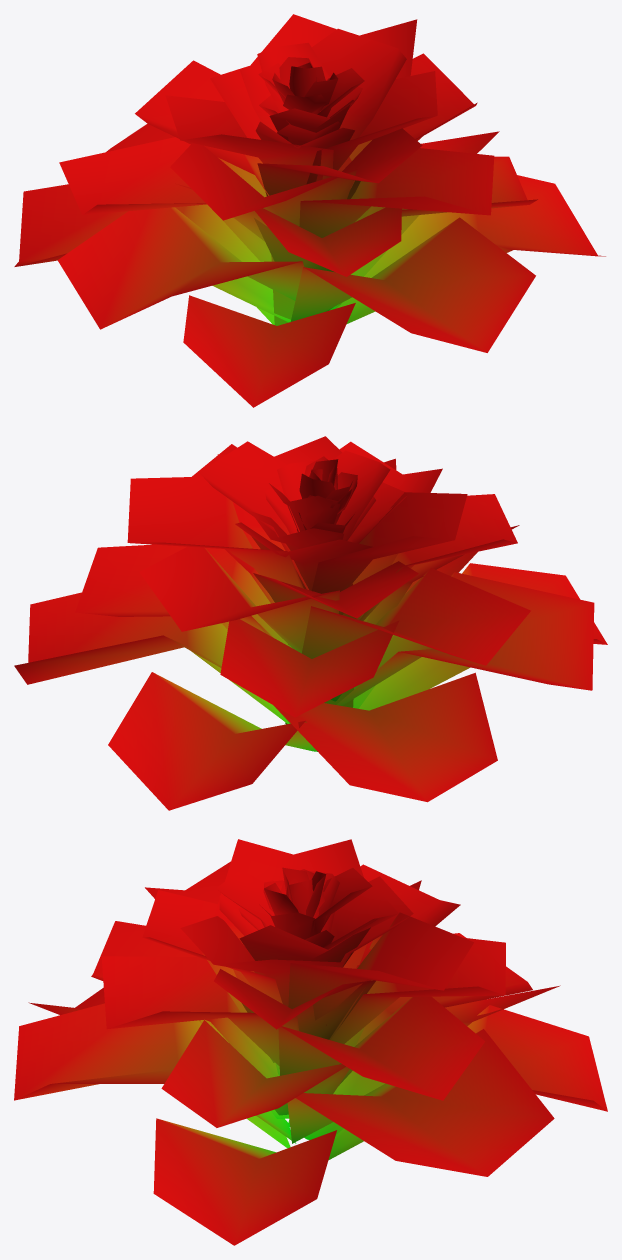
The model's file is White Ornamental Kale_LOD5_Var8_ue3ldcgja.fbx.
3 renders of one model, top to bottom at view 1: azimuth 30°, elevation 25°; view 2: azimuth 150°, elevation 25°; view 3: azimuth 270°, elevation 25°, orthographic. The views are drawn at different scales.
Visible parts, largest first — view 1: _1104_Var8_LOD5; view 2: _1104_Var8_LOD5; view 3: _1104_Var8_LOD5.
Boxes of the visible parts, bbox=[...] form: _1104_Var8_LOD5: bbox=[14, 14, 605, 407]; _1104_Var8_LOD5: bbox=[14, 436, 607, 810]; _1104_Var8_LOD5: bbox=[14, 839, 607, 1245].
Bounding box in the file's own units: 80.37 × 43.51 × 80.77.
